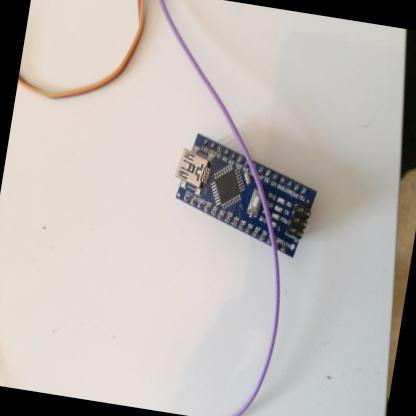Arduino_Nano: (162, 129, 326, 269)
